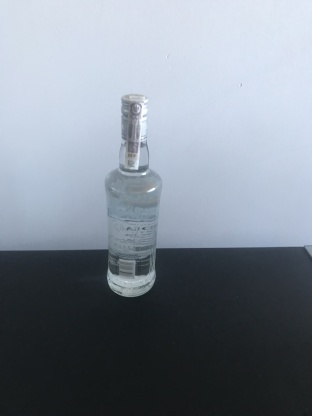nakretka: (118, 89, 150, 145)
